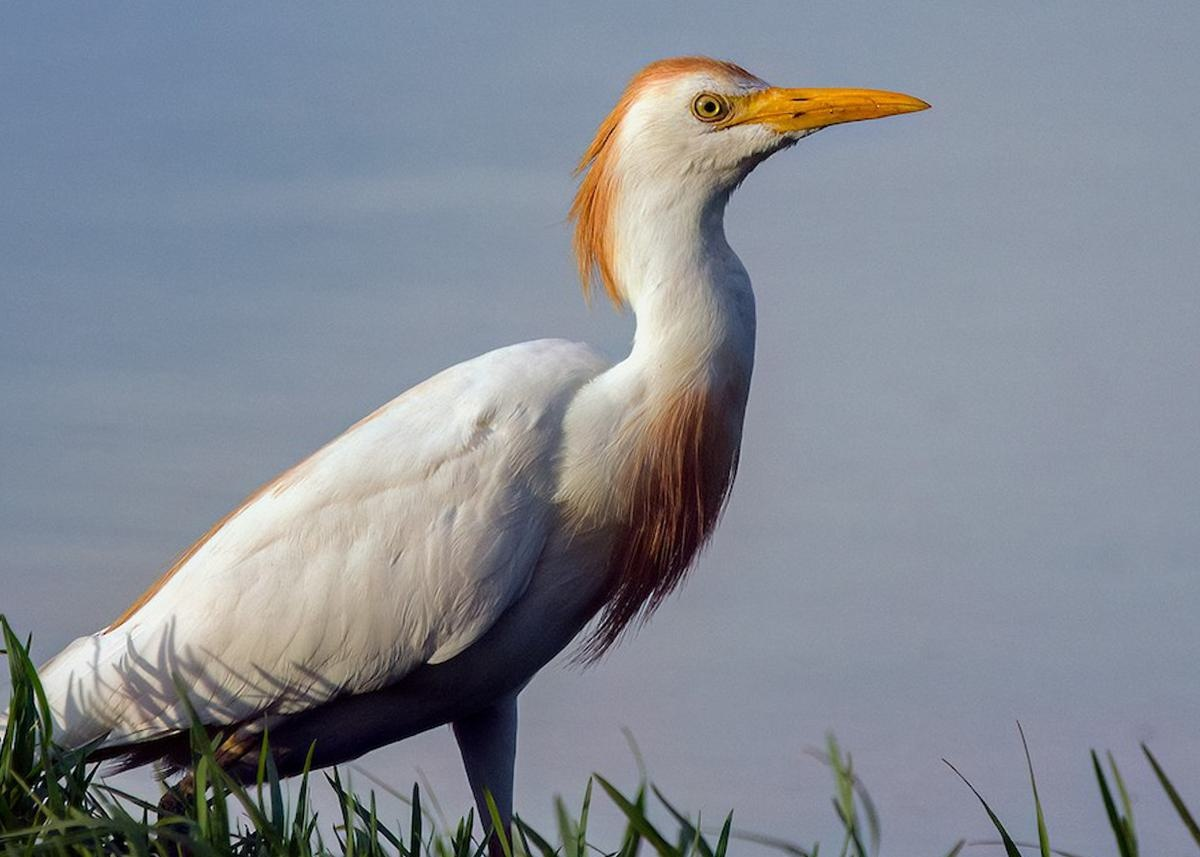egret: (40, 36, 931, 836)
